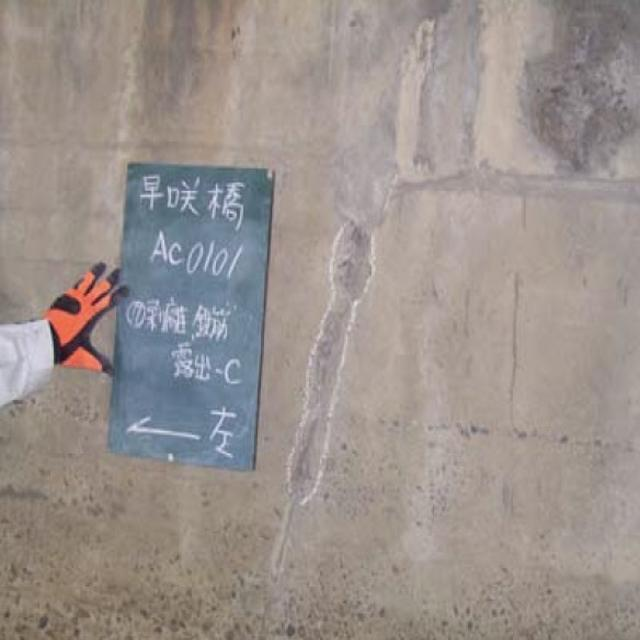freelime: (280, 156, 381, 533)
